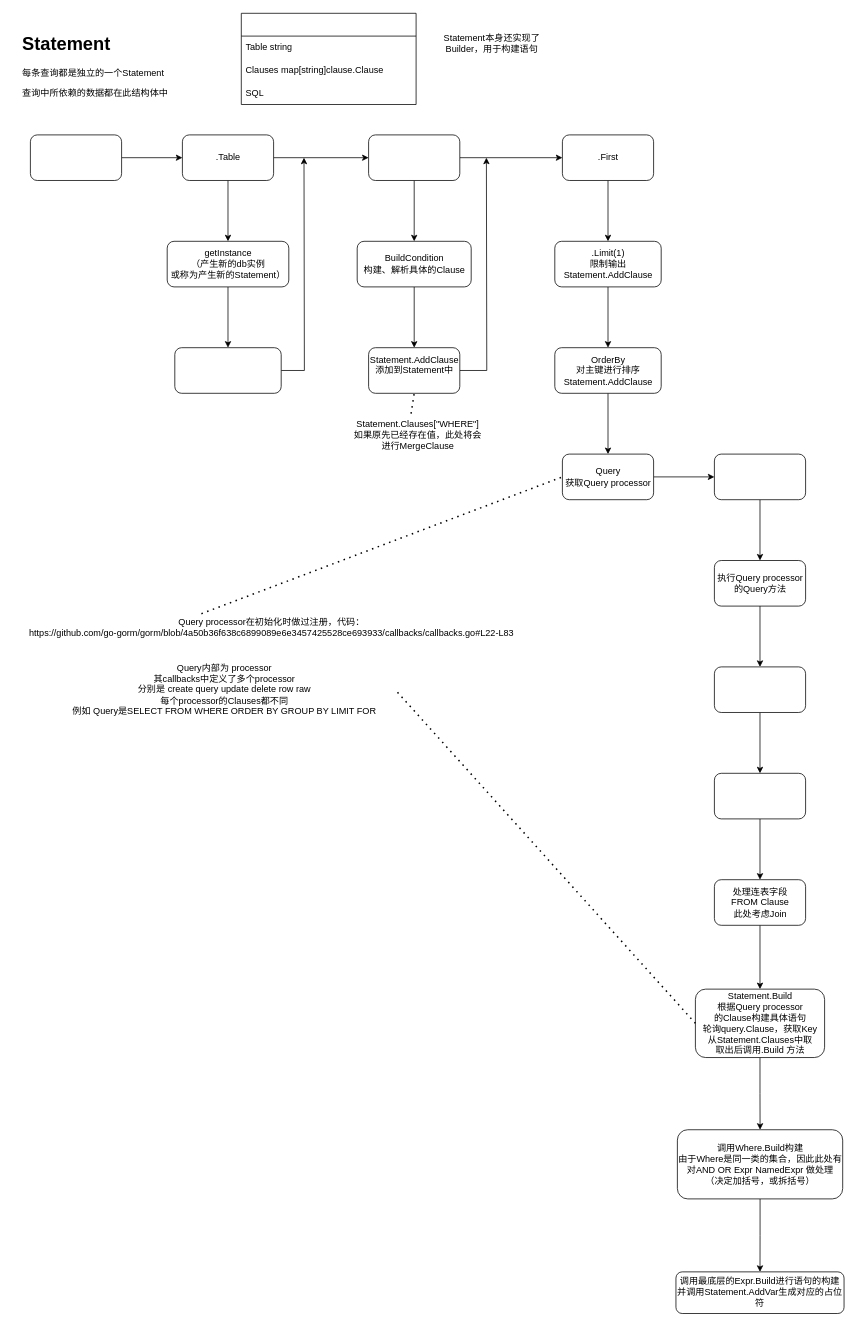
This 857x1327 diagram has some shape labels left out. Here are the shapes that lost their labels. From the top down, the box of each, then its label:
(241, 13, 416, 104): Statement
(30, 134, 122, 180): db
(368, 134, 460, 180): .Where
(174, 347, 281, 393): Statment.Table Statement.TableExpr
(714, 453, 806, 500): .Execute()
(714, 666, 806, 712): BuildQuerySQL 创建SQL语句
(714, 773, 806, 819): 处理Select,Omit,传入结构体字段
